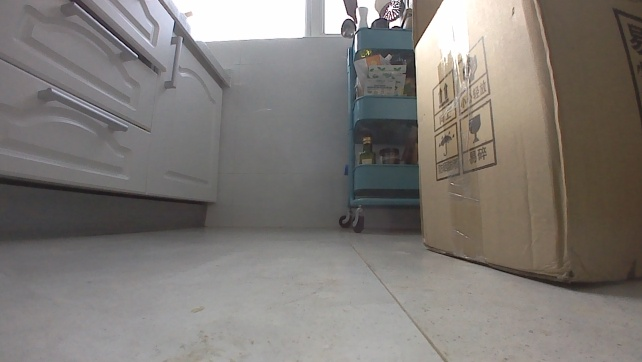cupboard: (0, 0, 230, 241)
